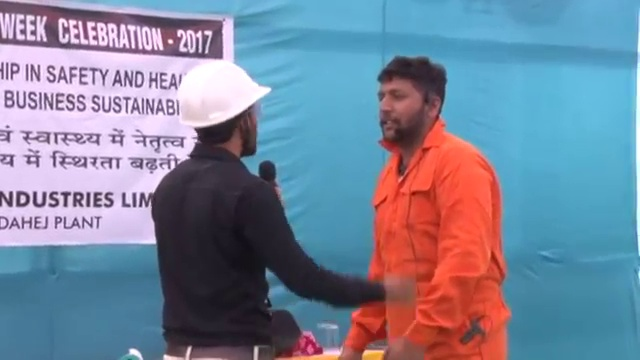helmet: (176, 59, 273, 127)
helmet_off: (375, 53, 447, 148)
helmet_on: (174, 58, 272, 166)
person: (148, 59, 397, 360), (345, 51, 514, 360)
